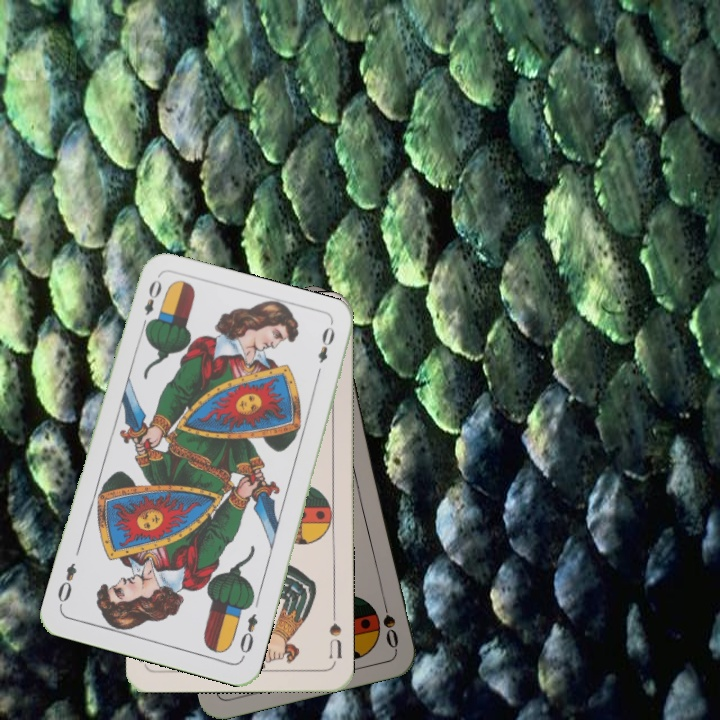EO: (137, 276, 164, 333), (235, 609, 261, 661)
SO: (377, 592, 401, 651)
SU: (325, 607, 344, 661)
